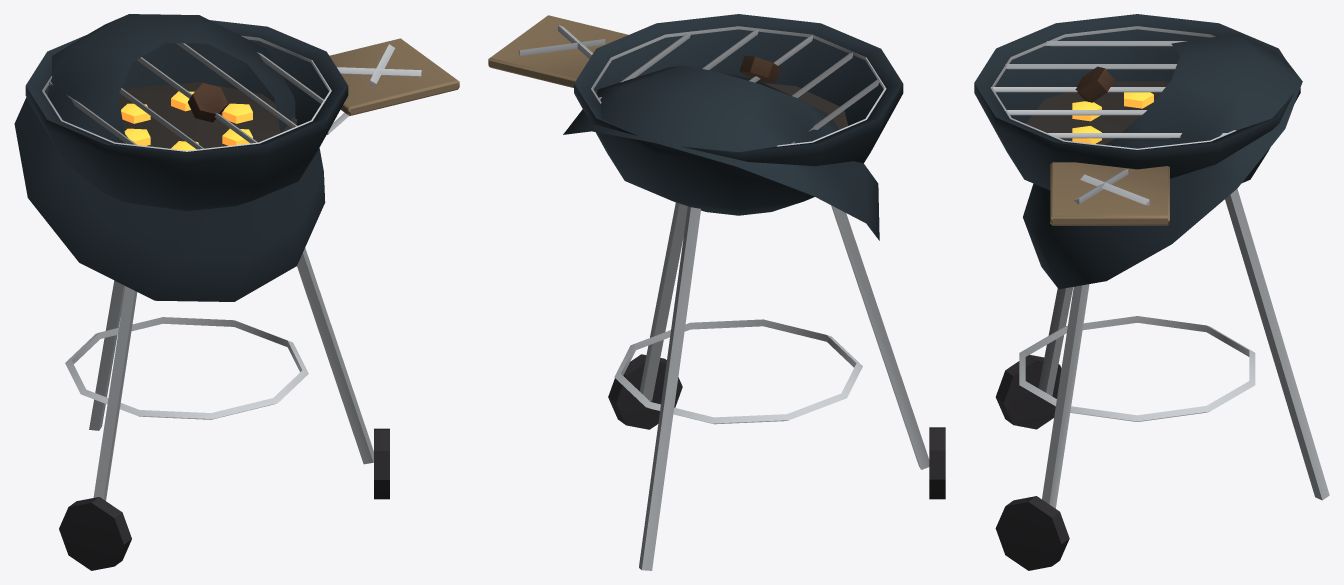
The model's file is grill_bbq.glb.
The picture shows the model from 3 angles, left to right: view 1: azimuth 30°, elevation 25°; view 2: azimuth 150°, elevation 25°; view 3: azimuth 270°, elevation 25°; orthographic projection.
Visible parts, largest first — view 1: grill_bbq, lid, flame; view 2: grill_bbq, lid; view 3: grill_bbq, lid, flame.
Boxes of the visible parts, <box> form: grill_bbq: <box>25,20,459,570</box>; lid: <box>14,14,325,301</box>; flame: <box>121,91,252,150</box>; grill_bbq: <box>488,14,945,570</box>; lid: <box>563,55,879,240</box>; grill_bbq: <box>974,14,1329,570</box>; lid: <box>1023,33,1302,289</box>; flame: <box>1072,92,1153,143</box>.
Size of the model in its own units: 0.8504 by 0.9003 by 0.6535.
